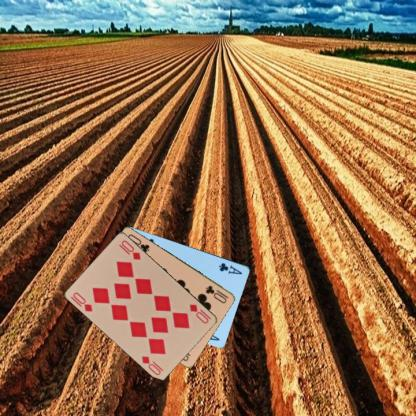10c: (203, 282, 230, 304)
10d: (187, 302, 213, 324), (71, 290, 94, 313)
Ac: (217, 260, 243, 276)
